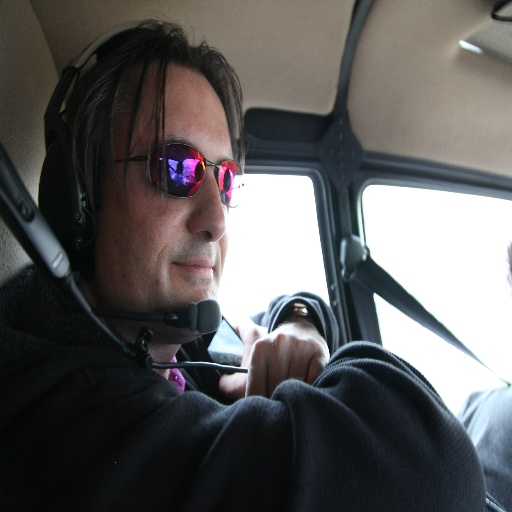hand: (236, 321, 342, 400), (218, 318, 269, 402)
